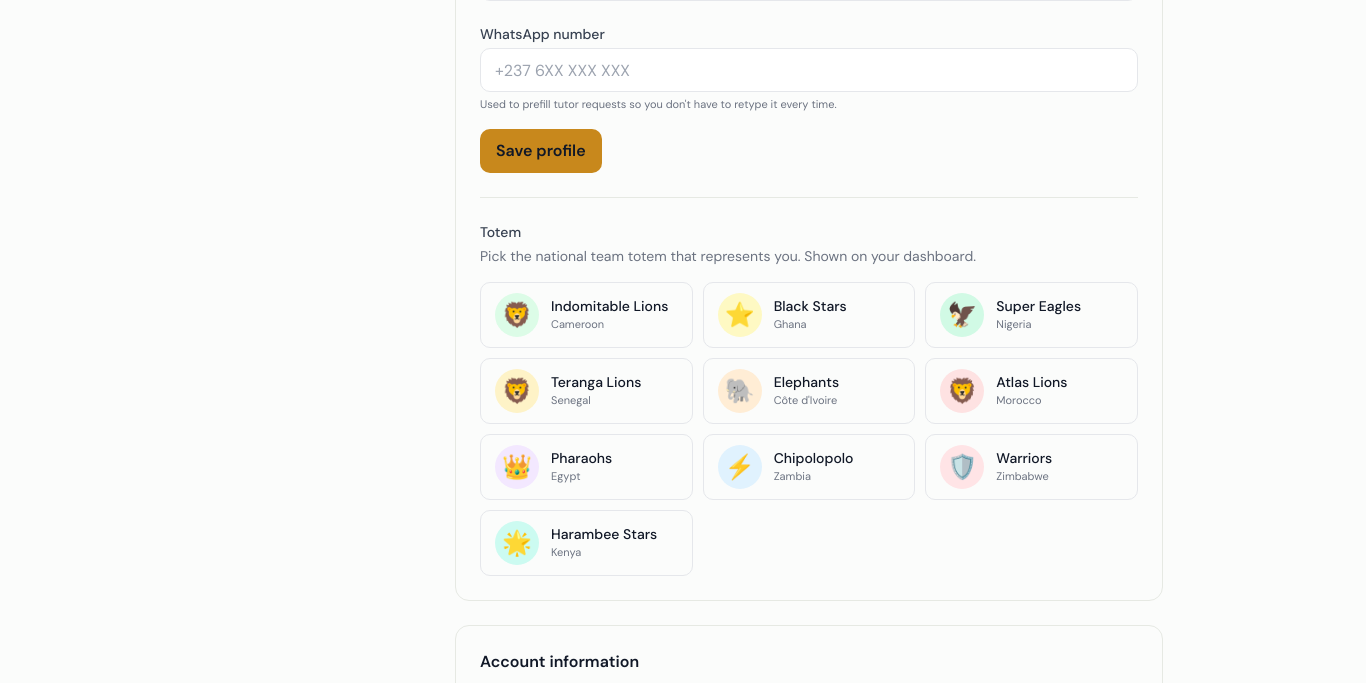
AccountSettings › totem picker › saves the selected totem and shows a confirmation
(page scrolled)
Click the radio button labelled "⭐ Black Stars Ghana".
click(809, 314)  # box [703,282,915,348]
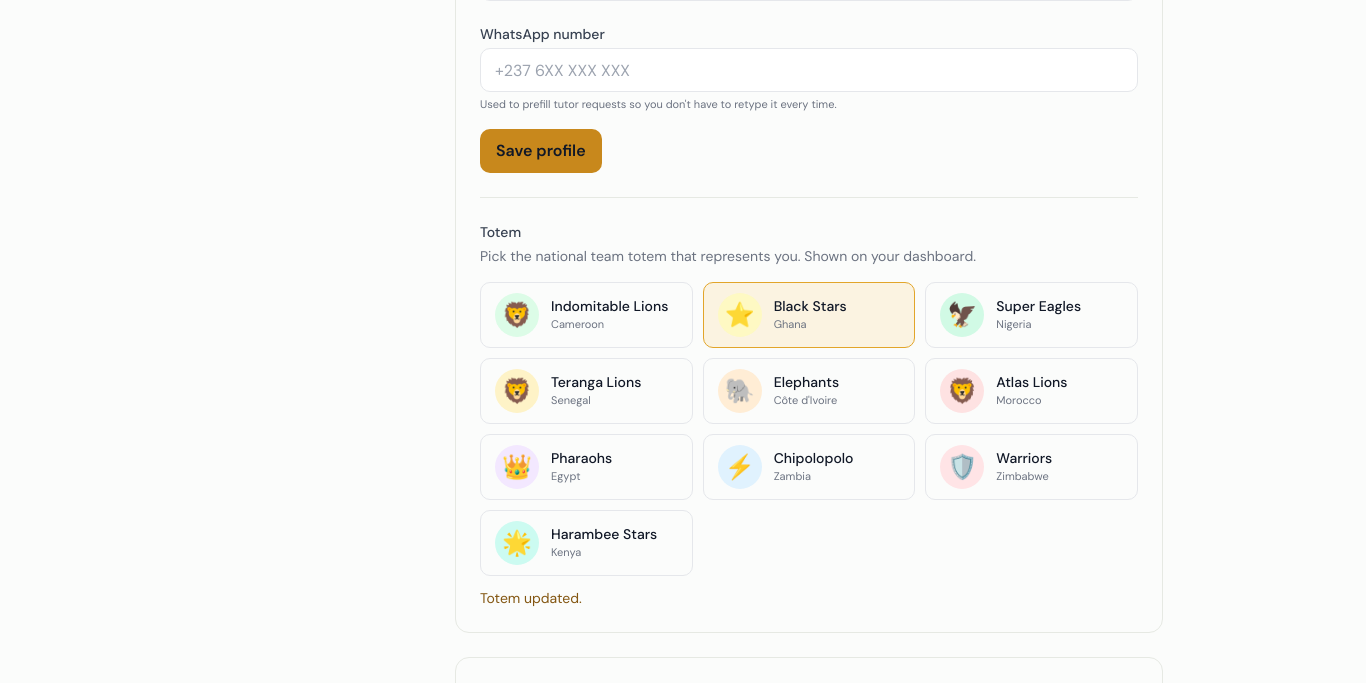
Result: the text "Totem updated." is shown at [480,588,582,606]
